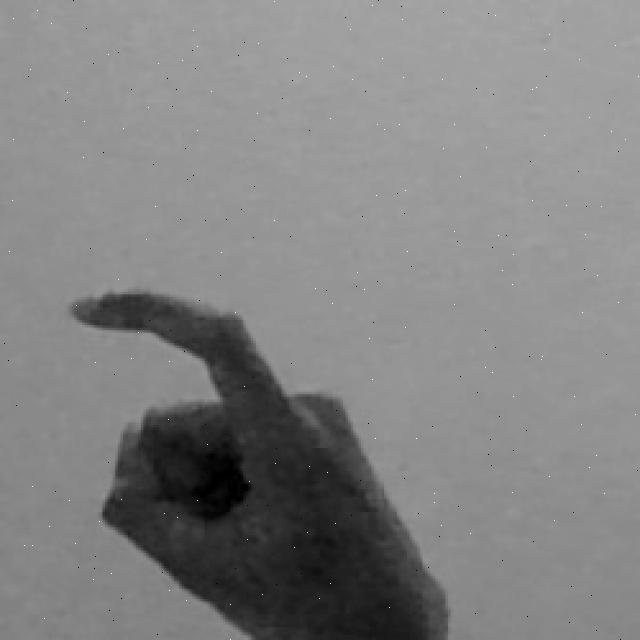X: (64, 280, 454, 640)
